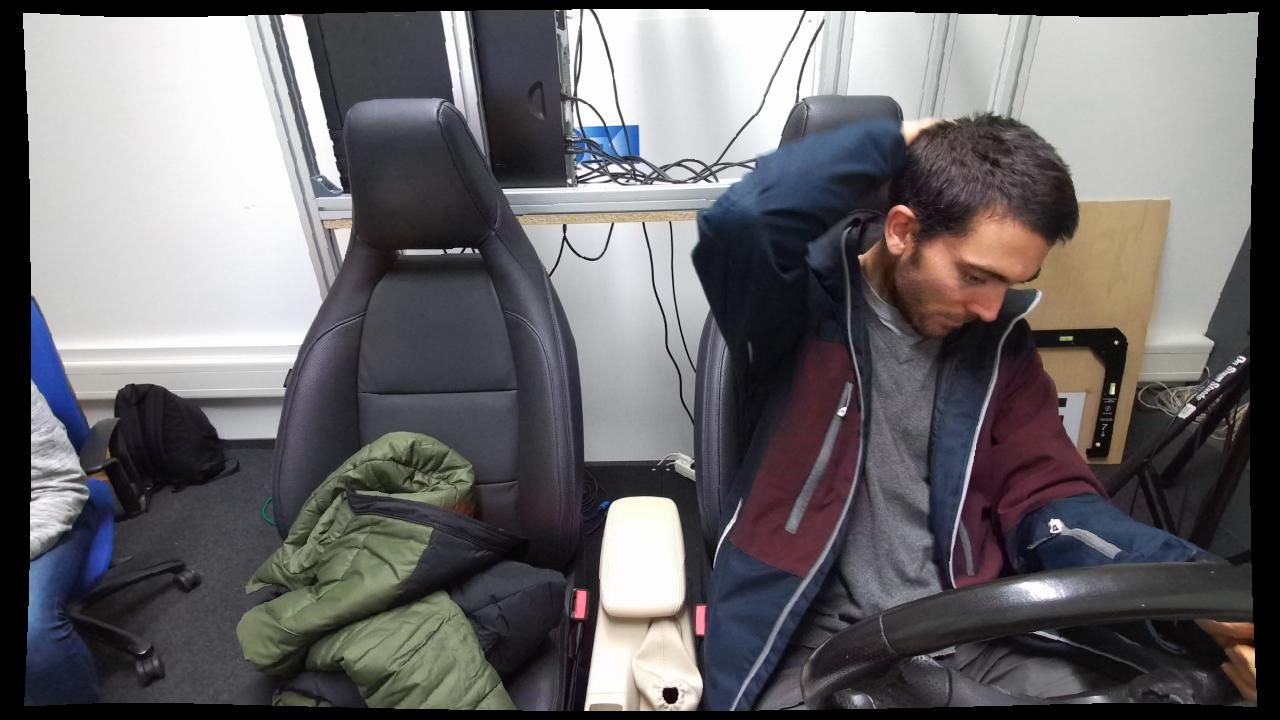Distracted: (688, 98, 1087, 708)
